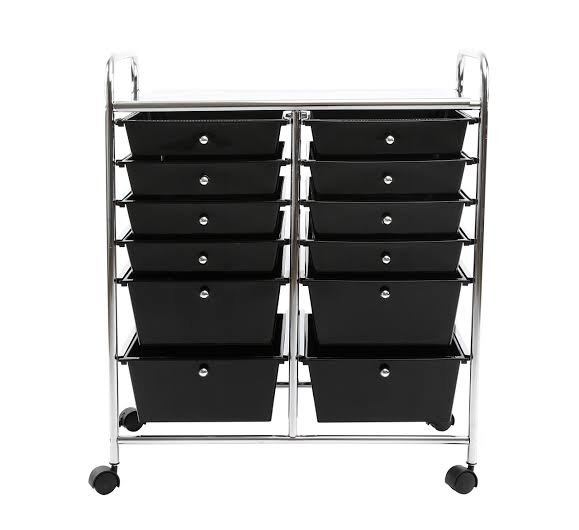Carts: (89, 50, 481, 496)
